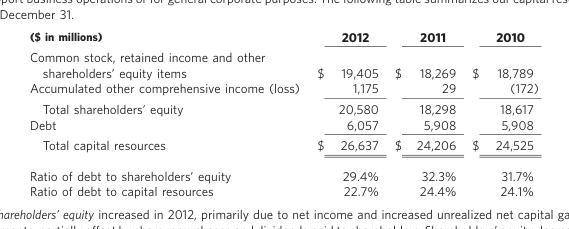table: (28, 28, 537, 197)
table column: (28, 28, 307, 197), (307, 28, 385, 197), (385, 28, 463, 197), (463, 28, 537, 197)
table column header: (28, 28, 537, 46)
table row: (28, 46, 537, 80), (28, 134, 537, 159), (28, 159, 537, 182), (28, 28, 537, 46), (28, 80, 537, 98), (28, 98, 537, 116), (28, 116, 537, 134), (28, 182, 537, 197)
